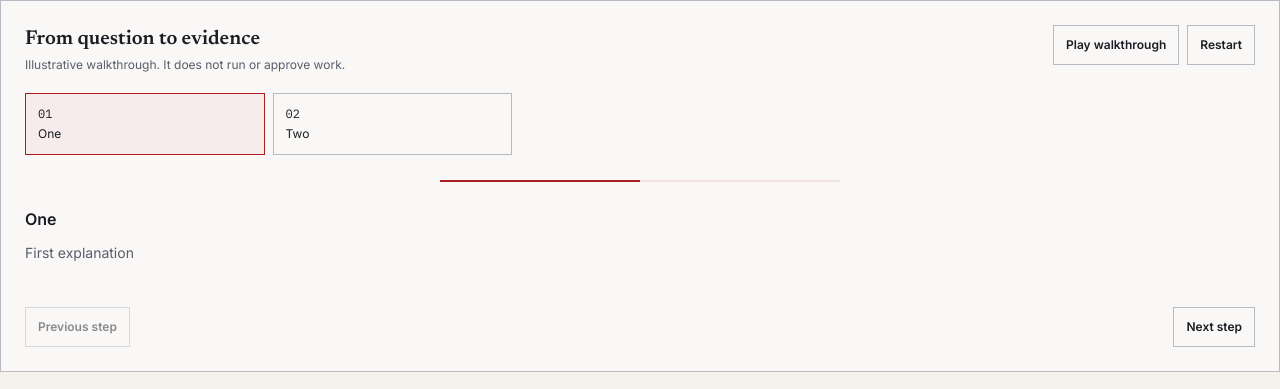
Test: motion activity and lifecycle › plays only while visible, stops at the last step and clears timers on unmount
Click the button "Play walkthrough".
click(1116, 45)  # box [1053, 25, 1179, 65]
Wait 9600 ms
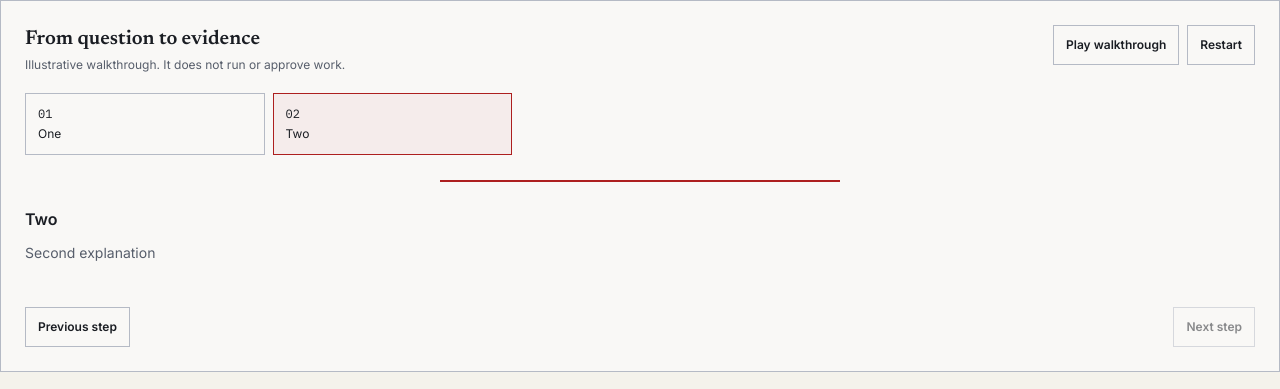
Expected: the text "Second explanation" is shown, [25, 244, 155, 261]
Click the button "Restart".
click(1221, 45)  # box [1187, 25, 1255, 65]
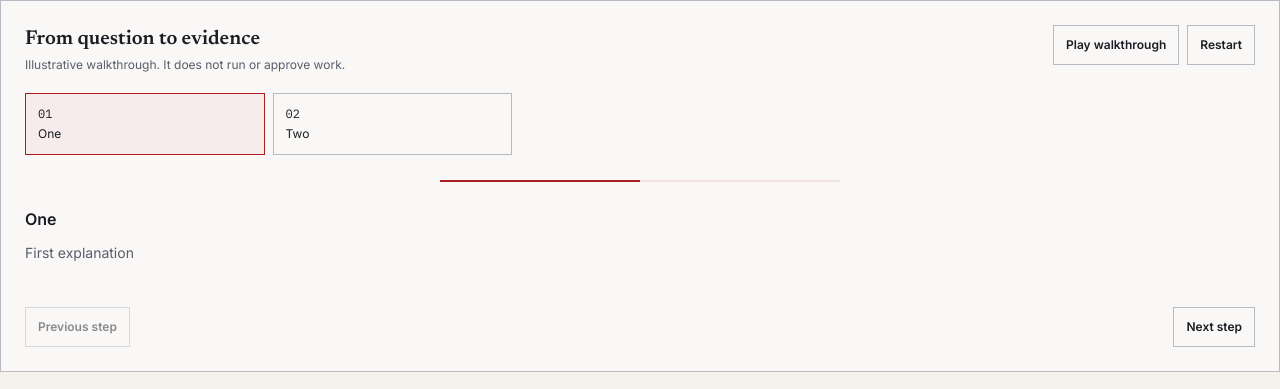
Expected: the text "First explanation" is shown, [25, 244, 134, 261]
